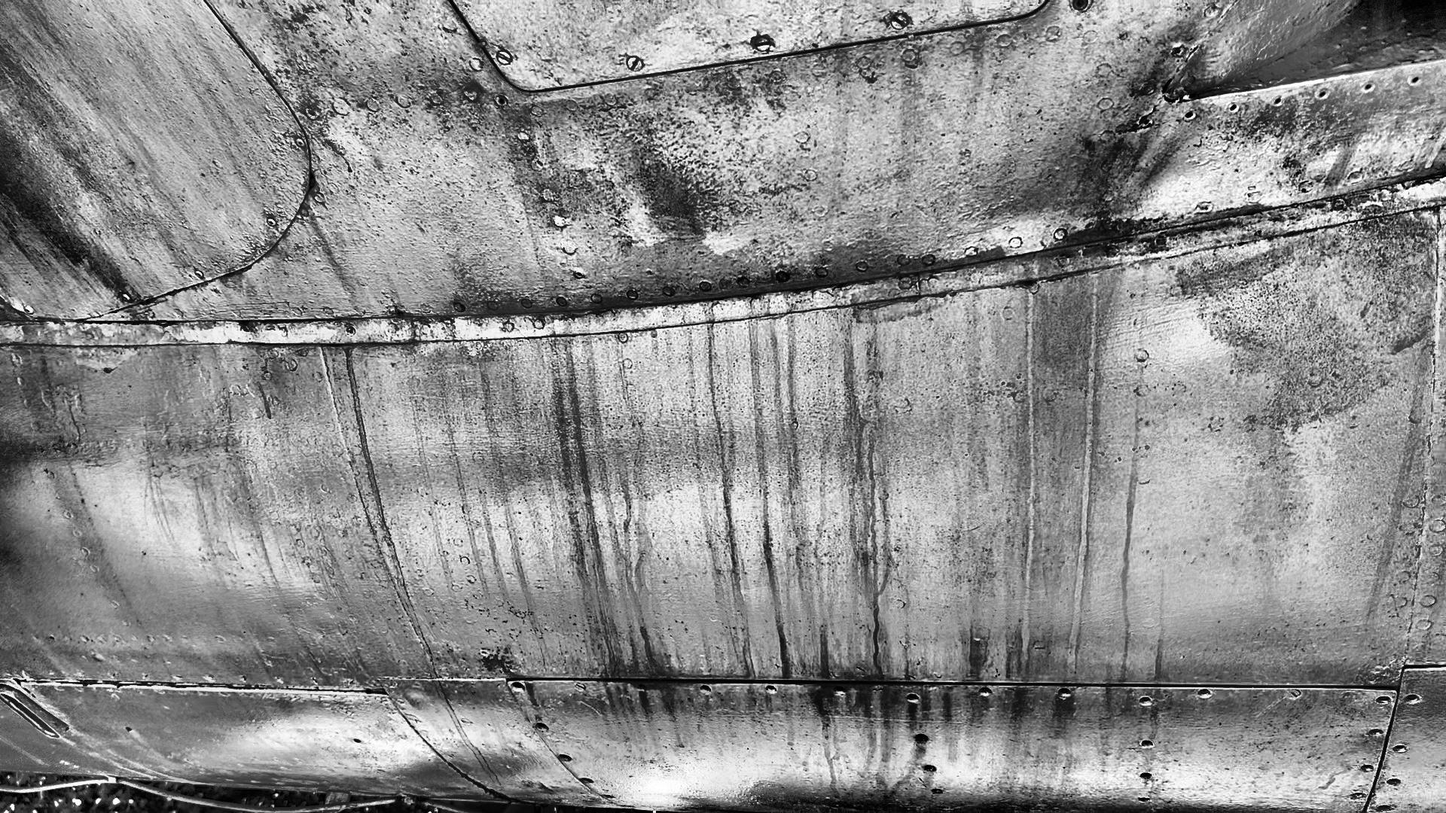missing-head: (1137, 734, 1158, 753), (827, 683, 851, 698), (902, 691, 924, 706), (506, 679, 527, 693), (1367, 723, 1384, 740), (1403, 691, 1422, 706), (1376, 689, 1391, 708), (761, 681, 779, 696), (633, 681, 653, 694), (535, 719, 552, 734), (1056, 685, 1073, 700), (1391, 740, 1408, 755), (1139, 768, 1156, 783), (1386, 773, 1401, 789), (559, 751, 574, 766), (1359, 758, 1374, 773), (913, 732, 932, 743), (695, 685, 715, 694)
